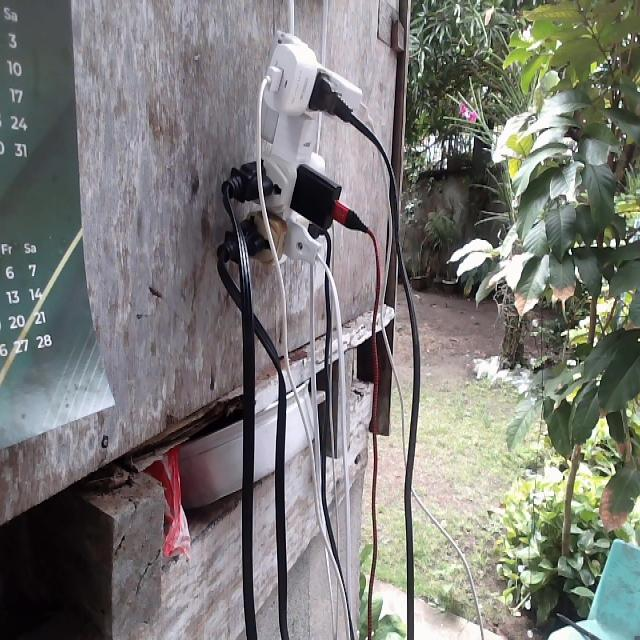-: (217, 29, 371, 266)
